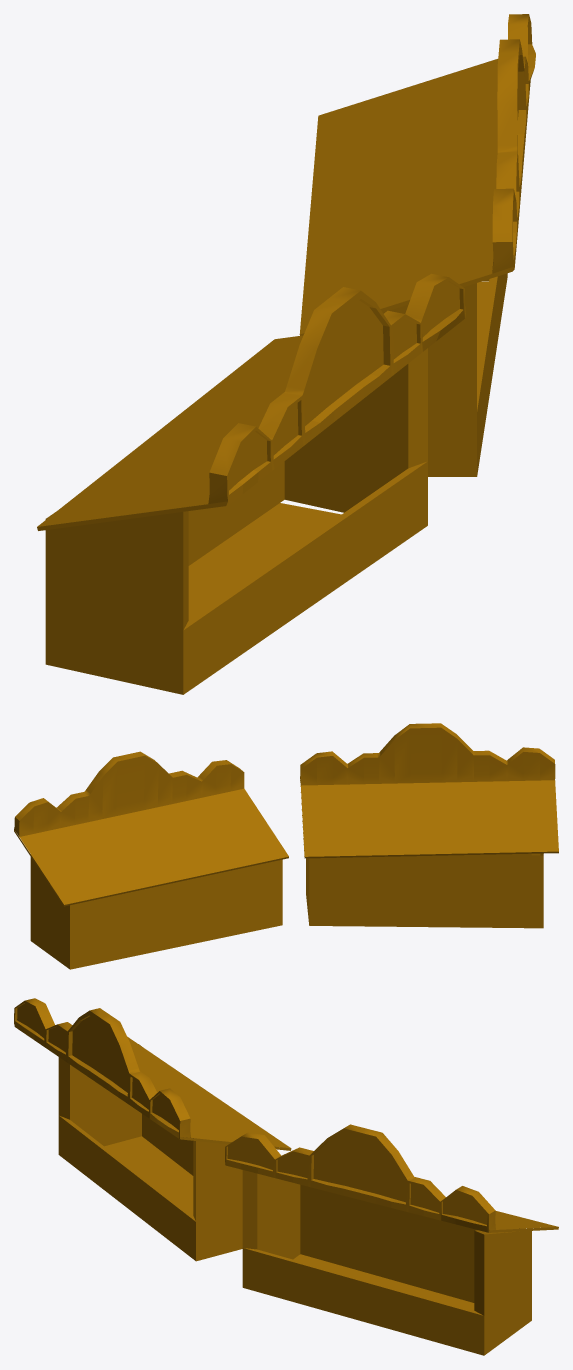
File: BackGroundGames.fbx
The picture shows the model from 3 angles, top to bottom: view 1: azimuth 30°, elevation 25°; view 2: azimuth 150°, elevation 25°; view 3: azimuth 270°, elevation 25°; orthographic projection. The views are drawn at different scales.
Parts seen in each view (by area): view 1: pCube40 (×2), Roof5, Roof6; view 2: pCube40 (×2), Roof6, Roof5; view 3: pCube40 (×2), Roof6, Roof5.
Part boxes in pixels (left/top/right/bottom): pCube40 (×2): left=45, top=273, right=507, bottom=694; Roof5: left=299, top=14, right=535, bottom=335; Roof6: left=37, top=273, right=465, bottom=530; pCube40 (×2): left=30, top=853, right=543, bottom=969; Roof6: left=300, top=723, right=558, bottom=858; Roof5: left=14, top=751, right=288, bottom=906; pCube40 (×2): left=58, top=1044, right=531, bottom=1355; Roof6: left=14, top=998, right=291, bottom=1150; Roof5: left=225, top=1124, right=558, bottom=1232.
Size of the model in its own units: 17.81 by 6.89 by 17.32.
